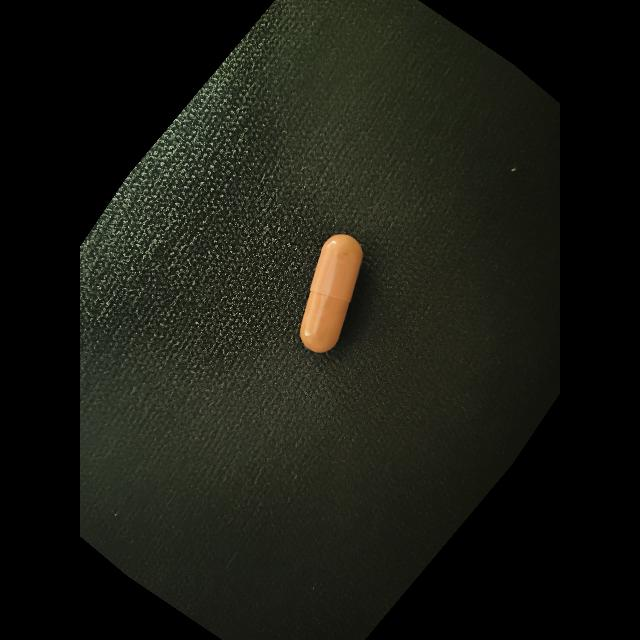Intact Capsule: (300, 234, 363, 352)
